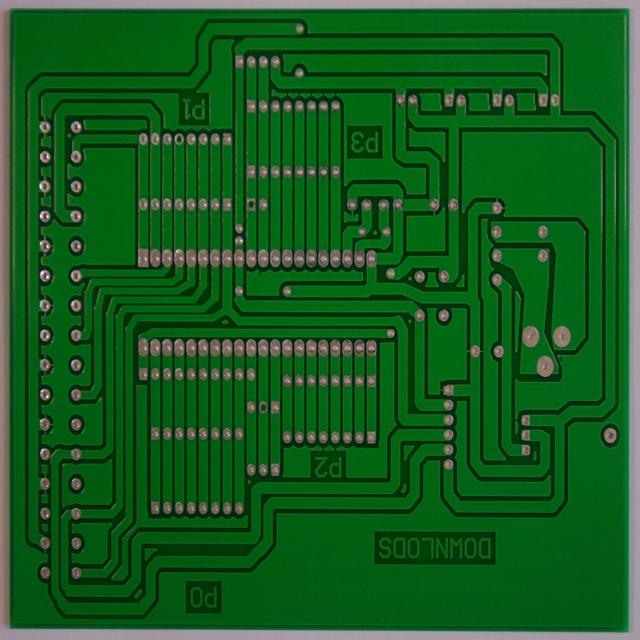missing_hole: (173, 130, 185, 147), (257, 399, 269, 415), (246, 197, 257, 211)
